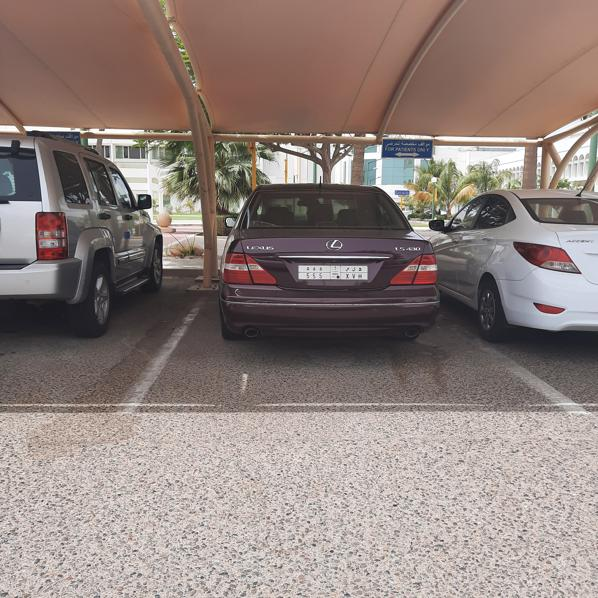numberplate: (298, 264, 370, 282)
